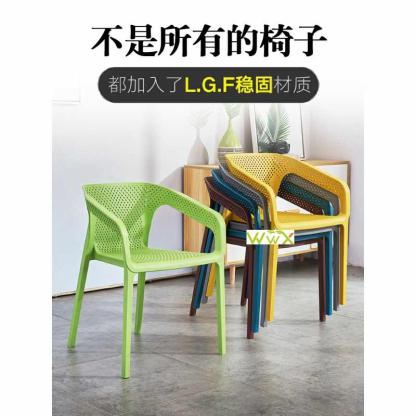chair: (66, 172, 238, 386)
